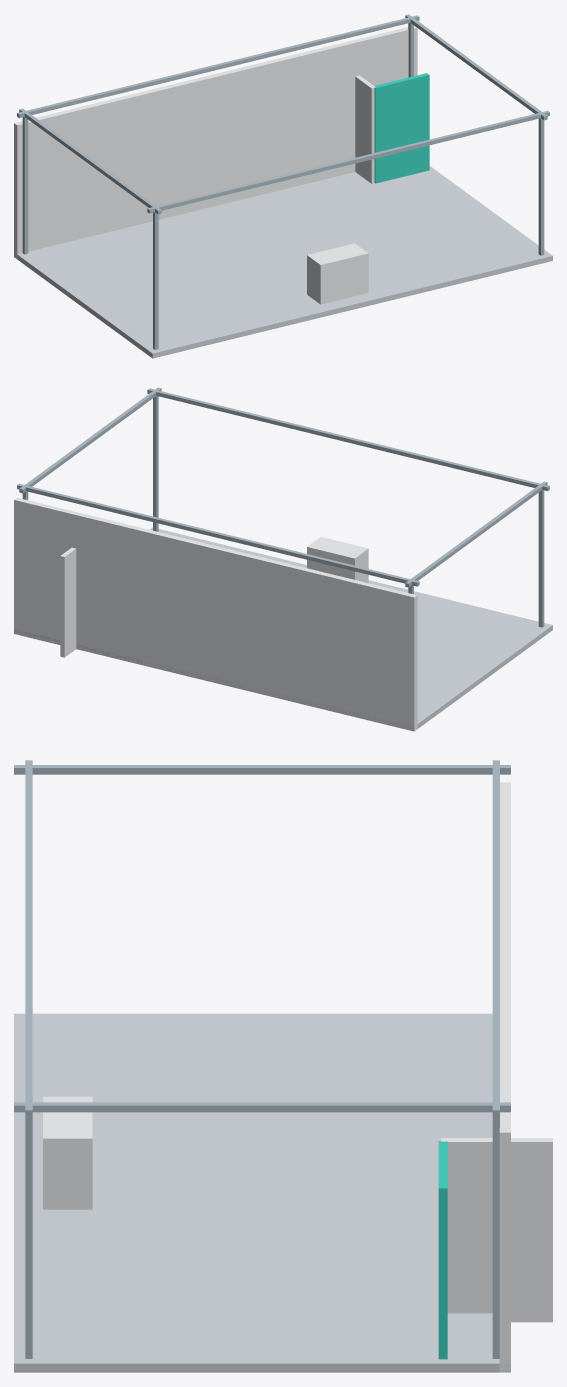
3 views of the same model, one above another, from view 1: azimuth 30°, elevation 25°; view 2: azimuth 150°, elevation 25°; view 3: azimuth 270°, elevation 25° (orthographic). The views are drawn at different scales.
Visible parts, largest first — view 1: Exhibition Booth Concept; view 2: Exhibition Booth Concept; view 3: Exhibition Booth Concept.
Boxes of the visible parts, x1,y1,x2,y2 form: Exhibition Booth Concept: (14,14,552,358); Exhibition Booth Concept: (14,387,552,731); Exhibition Booth Concept: (14,760,552,1372).
Size of the model in its own units: 10 by 3.49 by 6.51.
